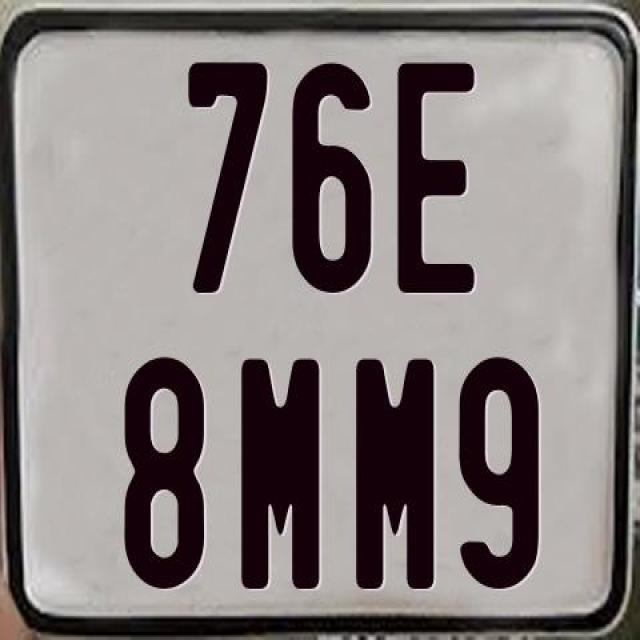6: (288, 59, 371, 298)
7: (188, 59, 271, 290)
8: (124, 357, 204, 590)
9: (458, 356, 546, 594)
E: (393, 58, 479, 288)
M: (237, 354, 320, 594), (356, 354, 439, 586)
